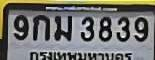3: (80, 16, 93, 41), (116, 16, 129, 41)
8: (98, 16, 111, 41)
9: (13, 14, 27, 39), (133, 16, 147, 41)
A01: (32, 14, 49, 40)
A33: (53, 14, 71, 40)
BKK: (27, 49, 134, 60)
